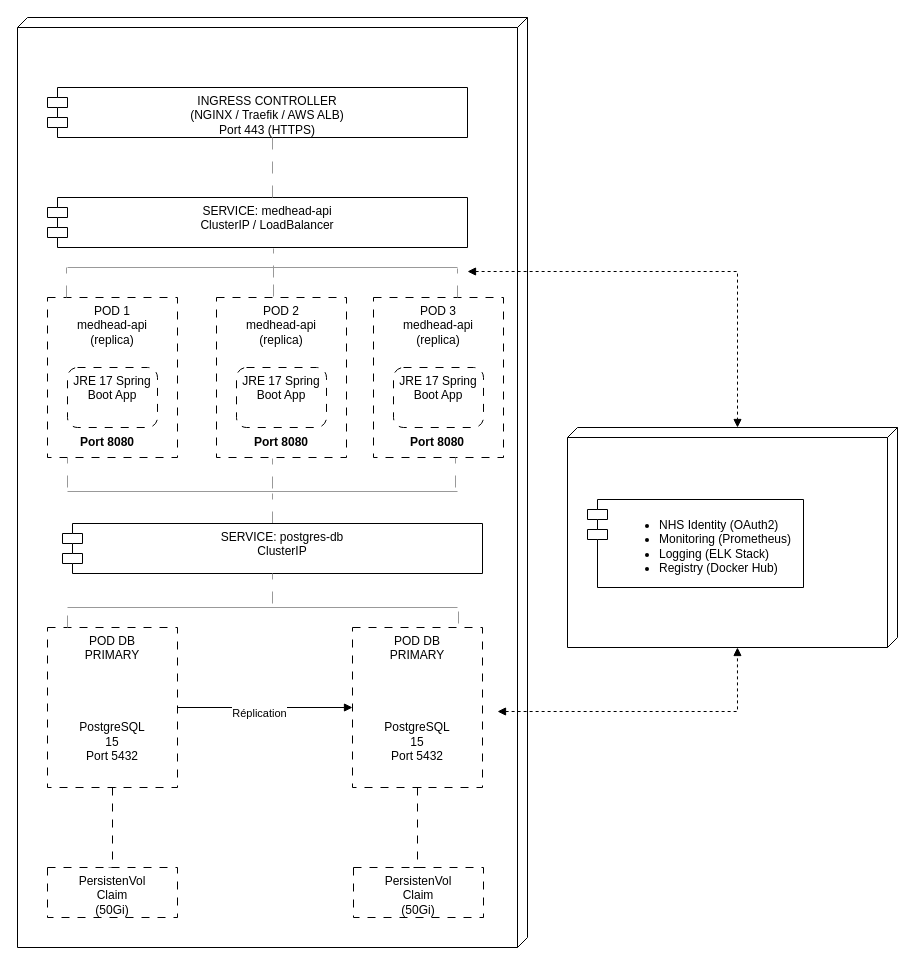
The diagram is 915 pixels wide and 965 high, and some of its shapes have lost their labels. Here are the shapes that lost their labels. From the top down, the box of each, then its label:
(16, 16, 528, 948): KUBERNETES CLUSTER
(566, 426, 898, 648): Système externe
